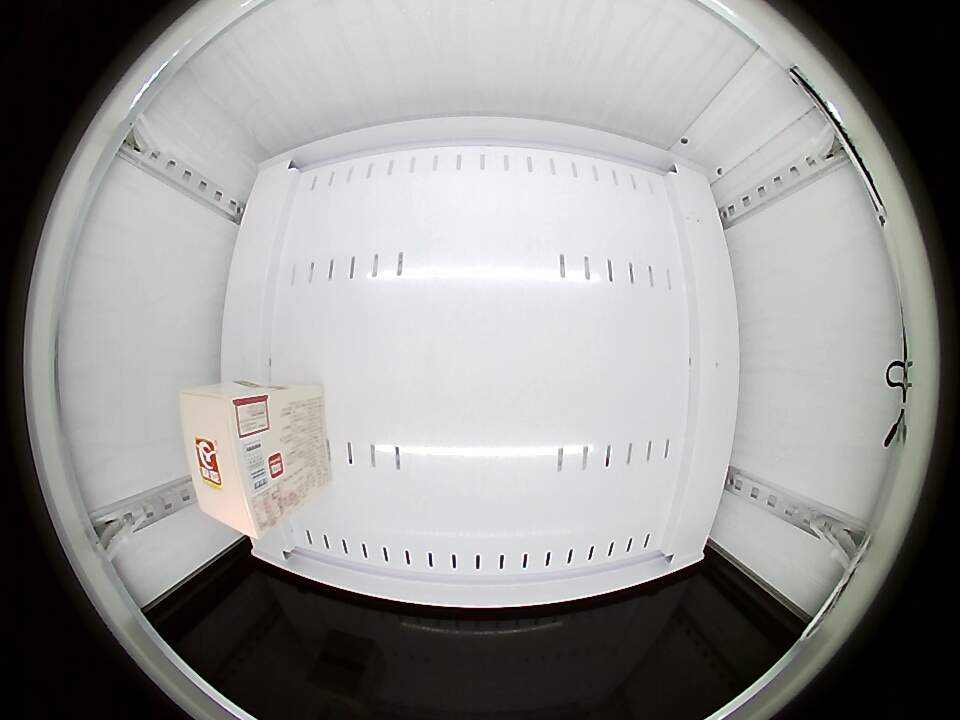rousongbing: (181, 384, 294, 539)
